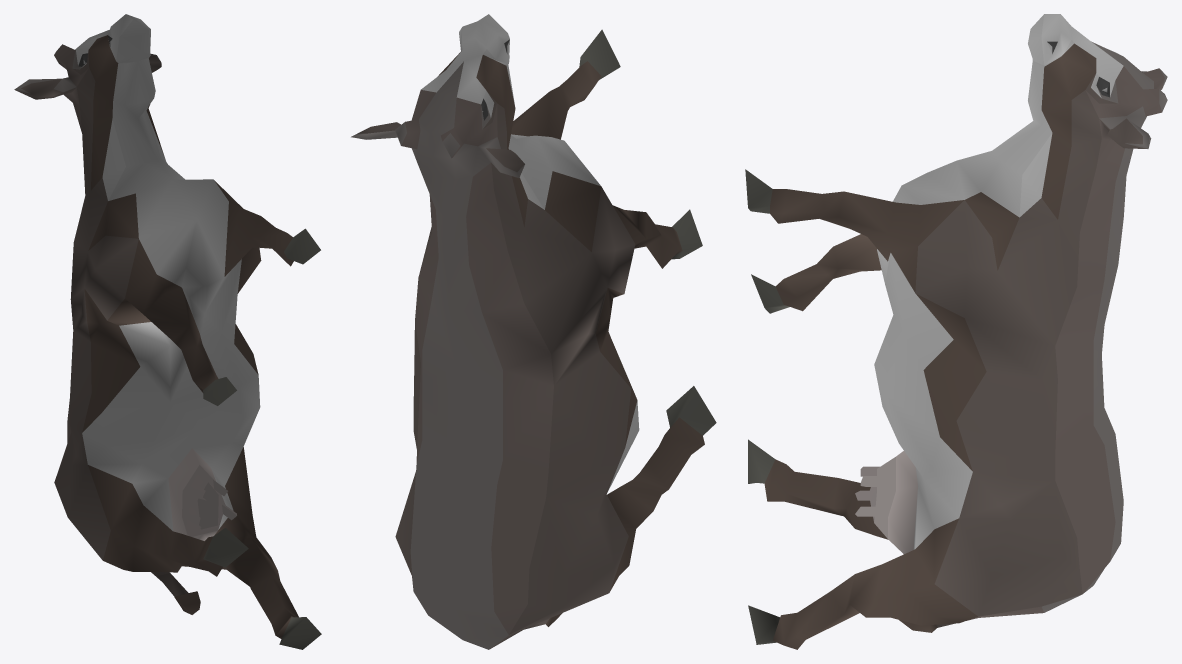
File: cow-fixed-walk.fbx
3 renders of one model, left to right at view 1: azimuth 30°, elevation 25°; view 2: azimuth 150°, elevation 25°; view 3: azimuth 270°, elevation 25°, orthographic. The views are drawn at different scales.
Visible parts, largest first — view 1: Cow_2791_frame[0].004; view 2: Cow_2791_frame[0].004; view 3: Cow_2791_frame[0].004.
Part boxes in pixels (x1,y1,x2,y2): Cow_2791_frame[0].004: (14, 14, 321, 649); Cow_2791_frame[0].004: (351, 14, 716, 649); Cow_2791_frame[0].004: (745, 14, 1167, 649).
Bounding box in the file's own units: 8000 × 24900 × 15400.
